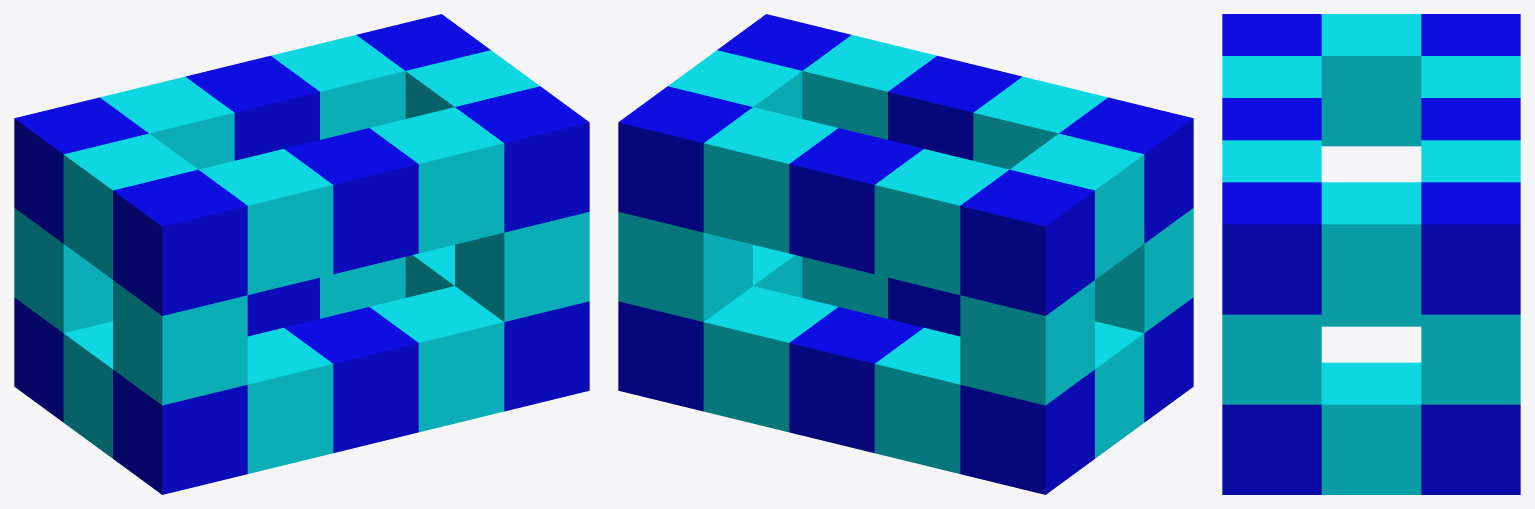
The model's file is ejemplo-2.glb.
The picture shows the model from 3 angles, left to right: view 1: azimuth 30°, elevation 25°; view 2: azimuth 150°, elevation 25°; view 3: azimuth 270°, elevation 25°; orthographic projection.
Visible parts, largest first — view 1: Box045, Box015, Box030, Box042, Box012, Box044, Box043, Box011, Box041, Box028, Box014, Box035 (+13 smaller); view 2: Box040, Box010, Box025, Box037, Box007, Box039, Box038, Box006, Box036, Box023, Box009, Box035 (+13 smaller); view 3: Box033, Box003, Box035, Box038, Box043, Box008, Box013, Box023, Box028, Box036, Box037, Box041 (+6 smaller).
Part boxes in pixels (x1=…): Box045: x1=113, y1=169, x2=247, y2=315; Box015: x1=113, y1=369, x2=247, y2=494; Box030: x1=113, y1=280, x2=247, y2=405; Box042: x1=370, y1=107, x2=504, y2=253; Box012: x1=370, y1=286, x2=504, y2=432; Box044: x1=199, y1=149, x2=333, y2=294; Box043: x1=455, y1=86, x2=589, y2=232; Box011: x1=284, y1=307, x2=418, y2=452; Box041: x1=284, y1=128, x2=418, y2=274; Box028: x1=455, y1=212, x2=589, y2=321; Box014: x1=247, y1=327, x2=333, y2=473; Box035: x1=63, y1=133, x2=197, y2=279; Box040: x1=960, y1=169, x2=1094, y2=315; Box010: x1=960, y1=369, x2=1094, y2=494; Box025: x1=960, y1=280, x2=1094, y2=405; Box037: x1=703, y1=107, x2=837, y2=253; Box007: x1=703, y1=286, x2=837, y2=432; Box039: x1=874, y1=149, x2=1008, y2=294; Box038: x1=618, y1=86, x2=752, y2=232; Box006: x1=789, y1=307, x2=923, y2=452; Box036: x1=789, y1=128, x2=923, y2=274; Box023: x1=618, y1=212, x2=752, y2=321; Box009: x1=874, y1=327, x2=960, y2=473; Box035: x1=1010, y1=133, x2=1144, y2=279; Box033: x1=1321, y1=182, x2=1421, y2=314; Box003: x1=1321, y1=362, x2=1421, y2=494; Box035: x1=1321, y1=14, x2=1421, y2=146; Box038: x1=1421, y1=182, x2=1520, y2=314; Box043: x1=1222, y1=182, x2=1321, y2=314; Box008: x1=1421, y1=404, x2=1520, y2=494; Box013: x1=1222, y1=404, x2=1321, y2=494; Box023: x1=1421, y1=314, x2=1520, y2=404; Box028: x1=1222, y1=314, x2=1321, y2=404; Box036: x1=1421, y1=98, x2=1520, y2=140; Box037: x1=1421, y1=140, x2=1520, y2=182; Box041: x1=1222, y1=98, x2=1321, y2=140.
Bounding box in the file's own units: 0.254 × 0.1524 × 0.1524.
